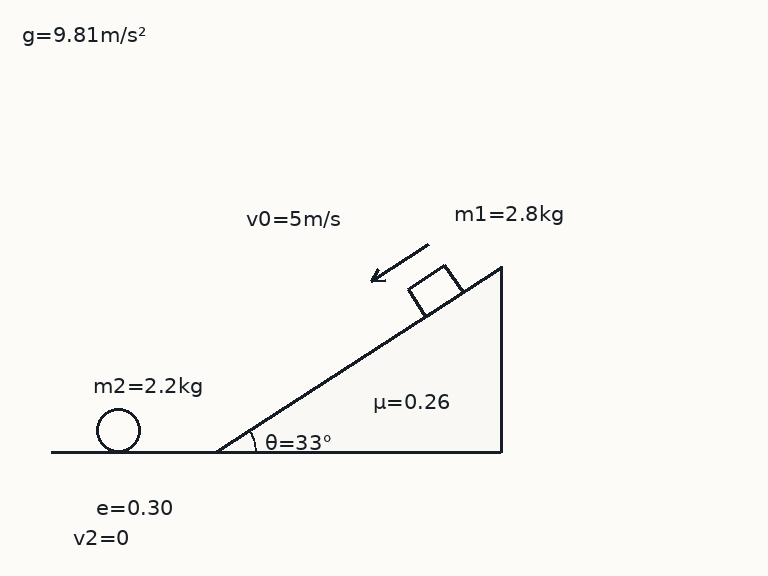ball: (94, 406, 142, 454)
block: (406, 263, 464, 318)
ramp: (214, 265, 502, 454)
